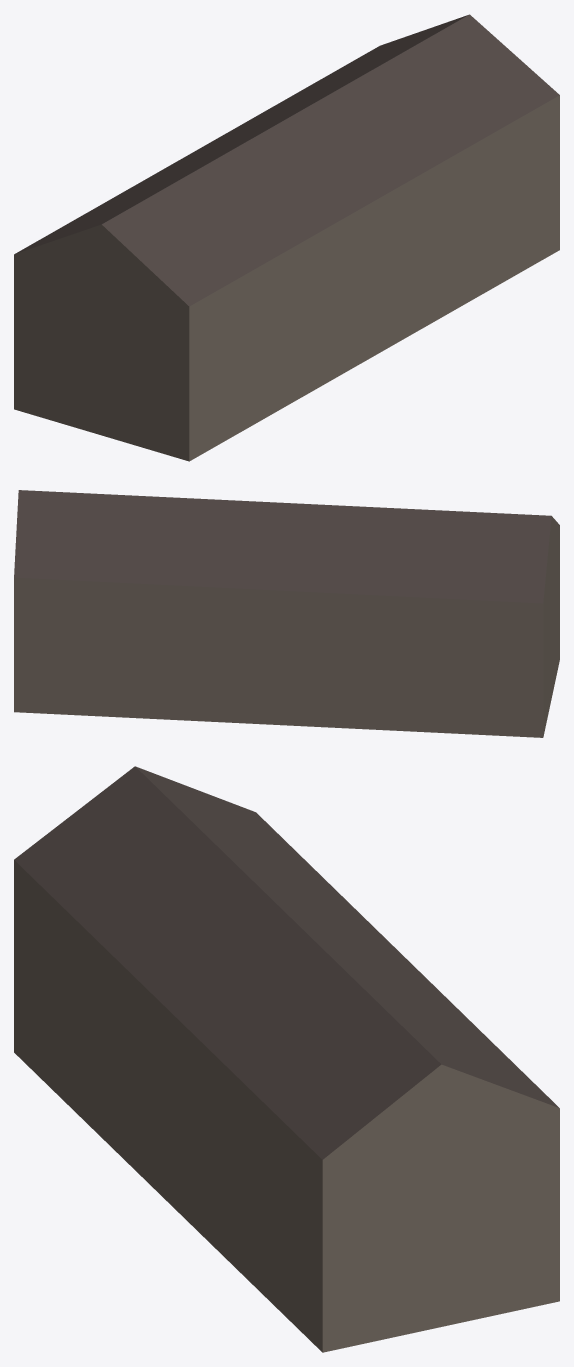
The picture shows the model from 3 angles, top to bottom: view 1: azimuth 30°, elevation 25°; view 2: azimuth 150°, elevation 25°; view 3: azimuth 270°, elevation 25°; orthographic projection. The views are drawn at different scales.
Parts seen in each view (by area): view 1: HP-w1515076957; view 2: HP-w1515076957; view 3: HP-w1515076957.
Boxes of the visible parts, x1,y1,x2,y2 form: HP-w1515076957: (14, 14, 559, 461); HP-w1515076957: (14, 490, 559, 737); HP-w1515076957: (14, 766, 559, 1352).
Size of the model in its own units: 34.82 by 12.26 by 23.11.
